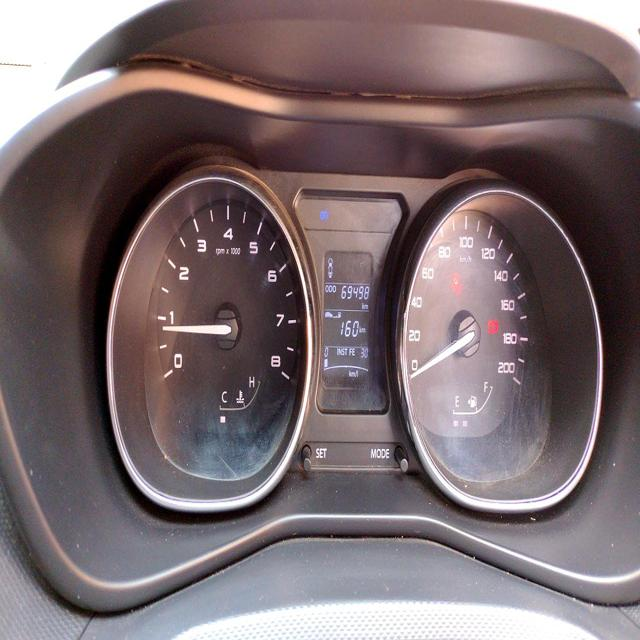odometer: (340, 283, 370, 301)
